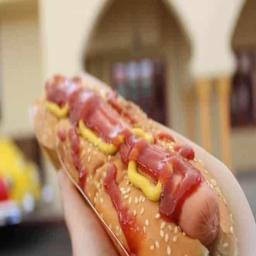hotdog: (31, 70, 236, 256)
